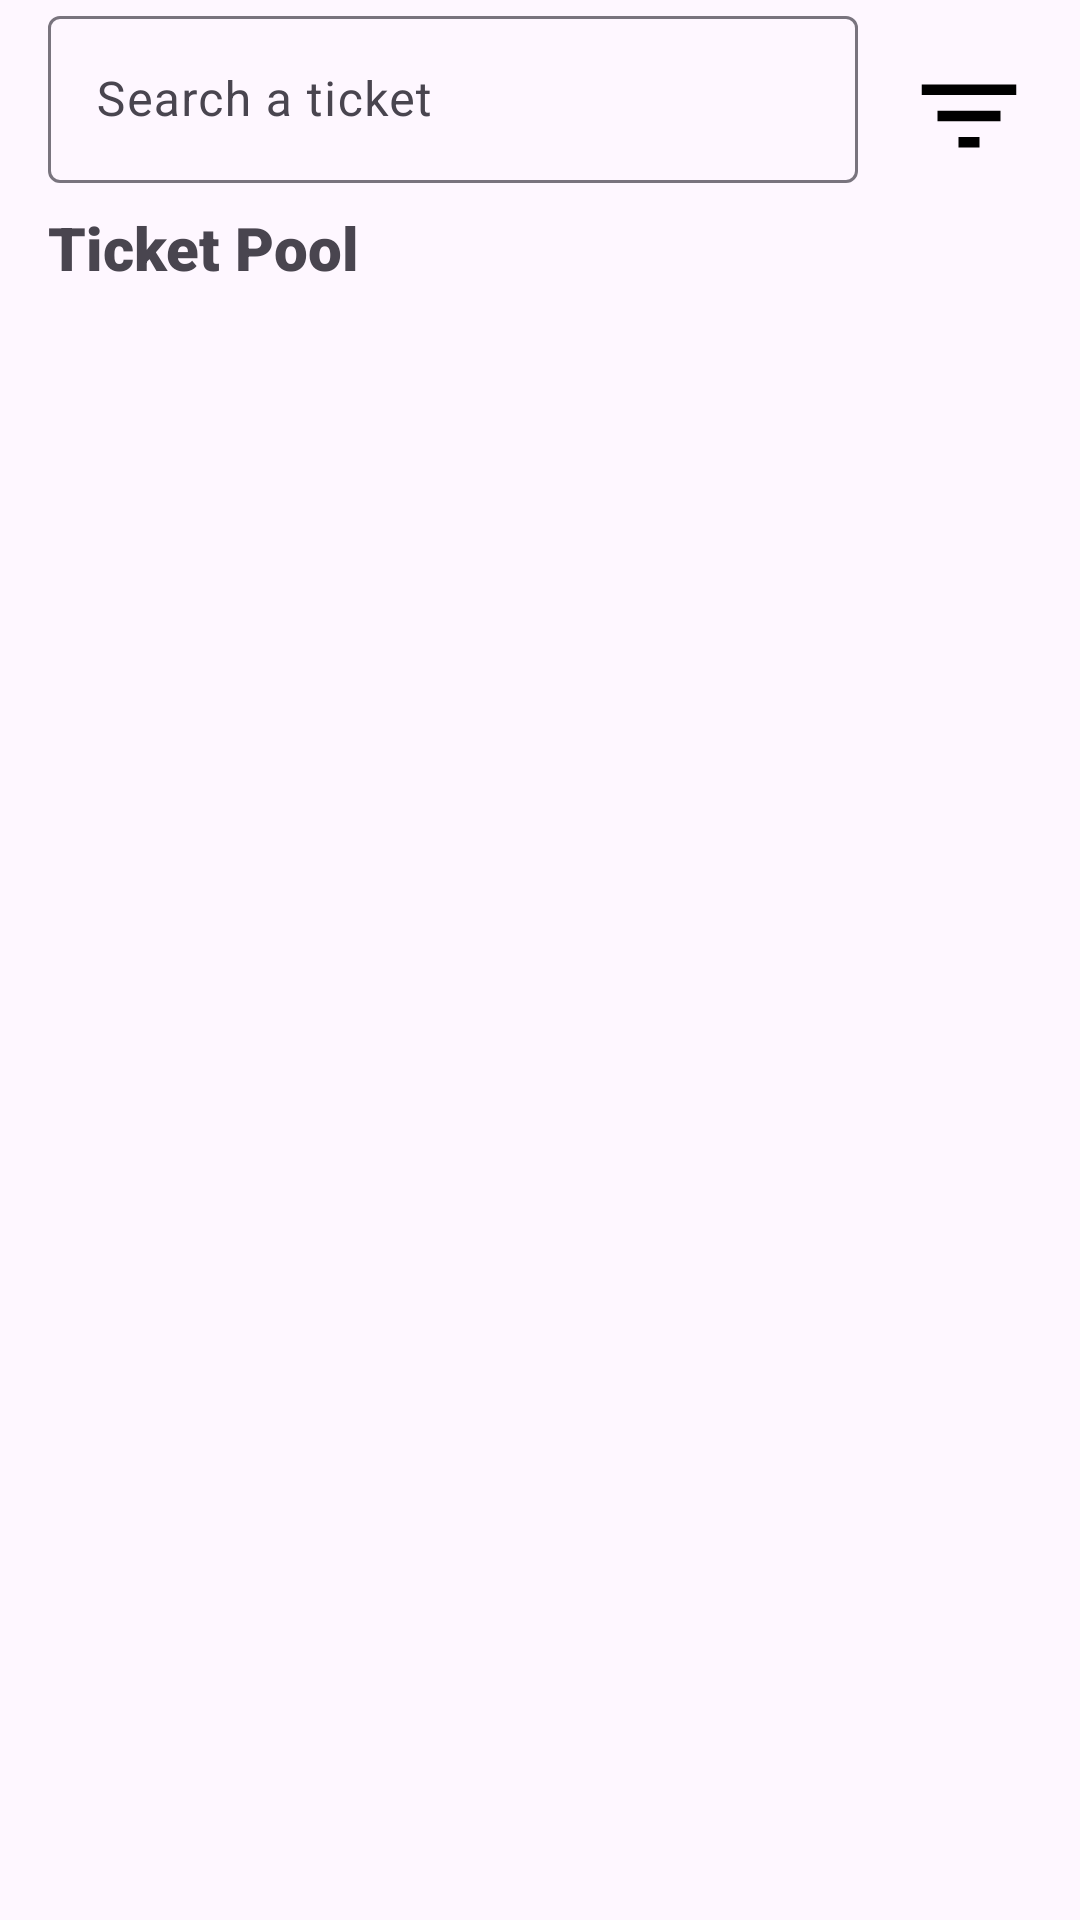

Locate icon controls on the screen. Image size 1080px x 1920px, boxes as (x1,y1,x2,y2).
filter: (921,84,1017,148)
